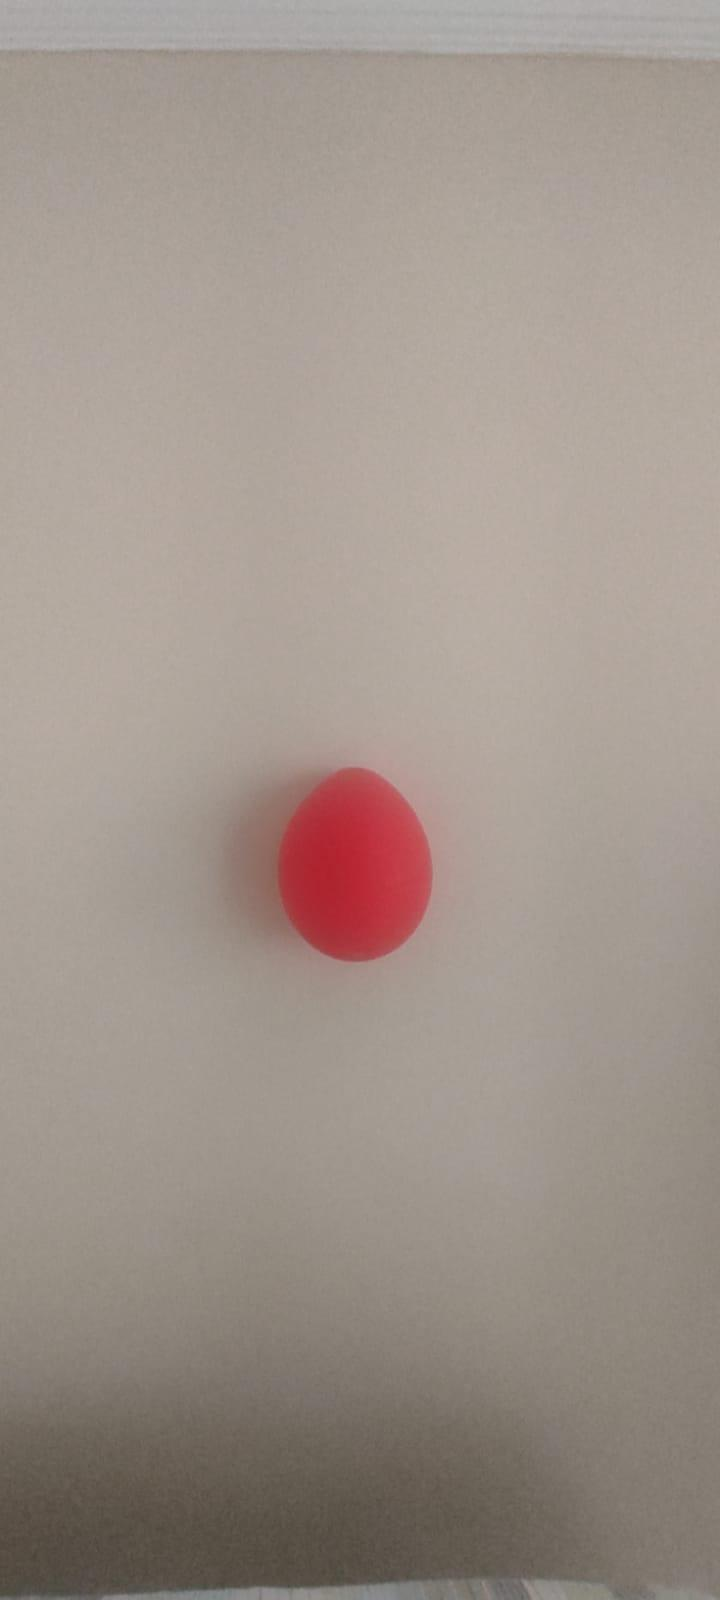red: (263, 754, 438, 962)
